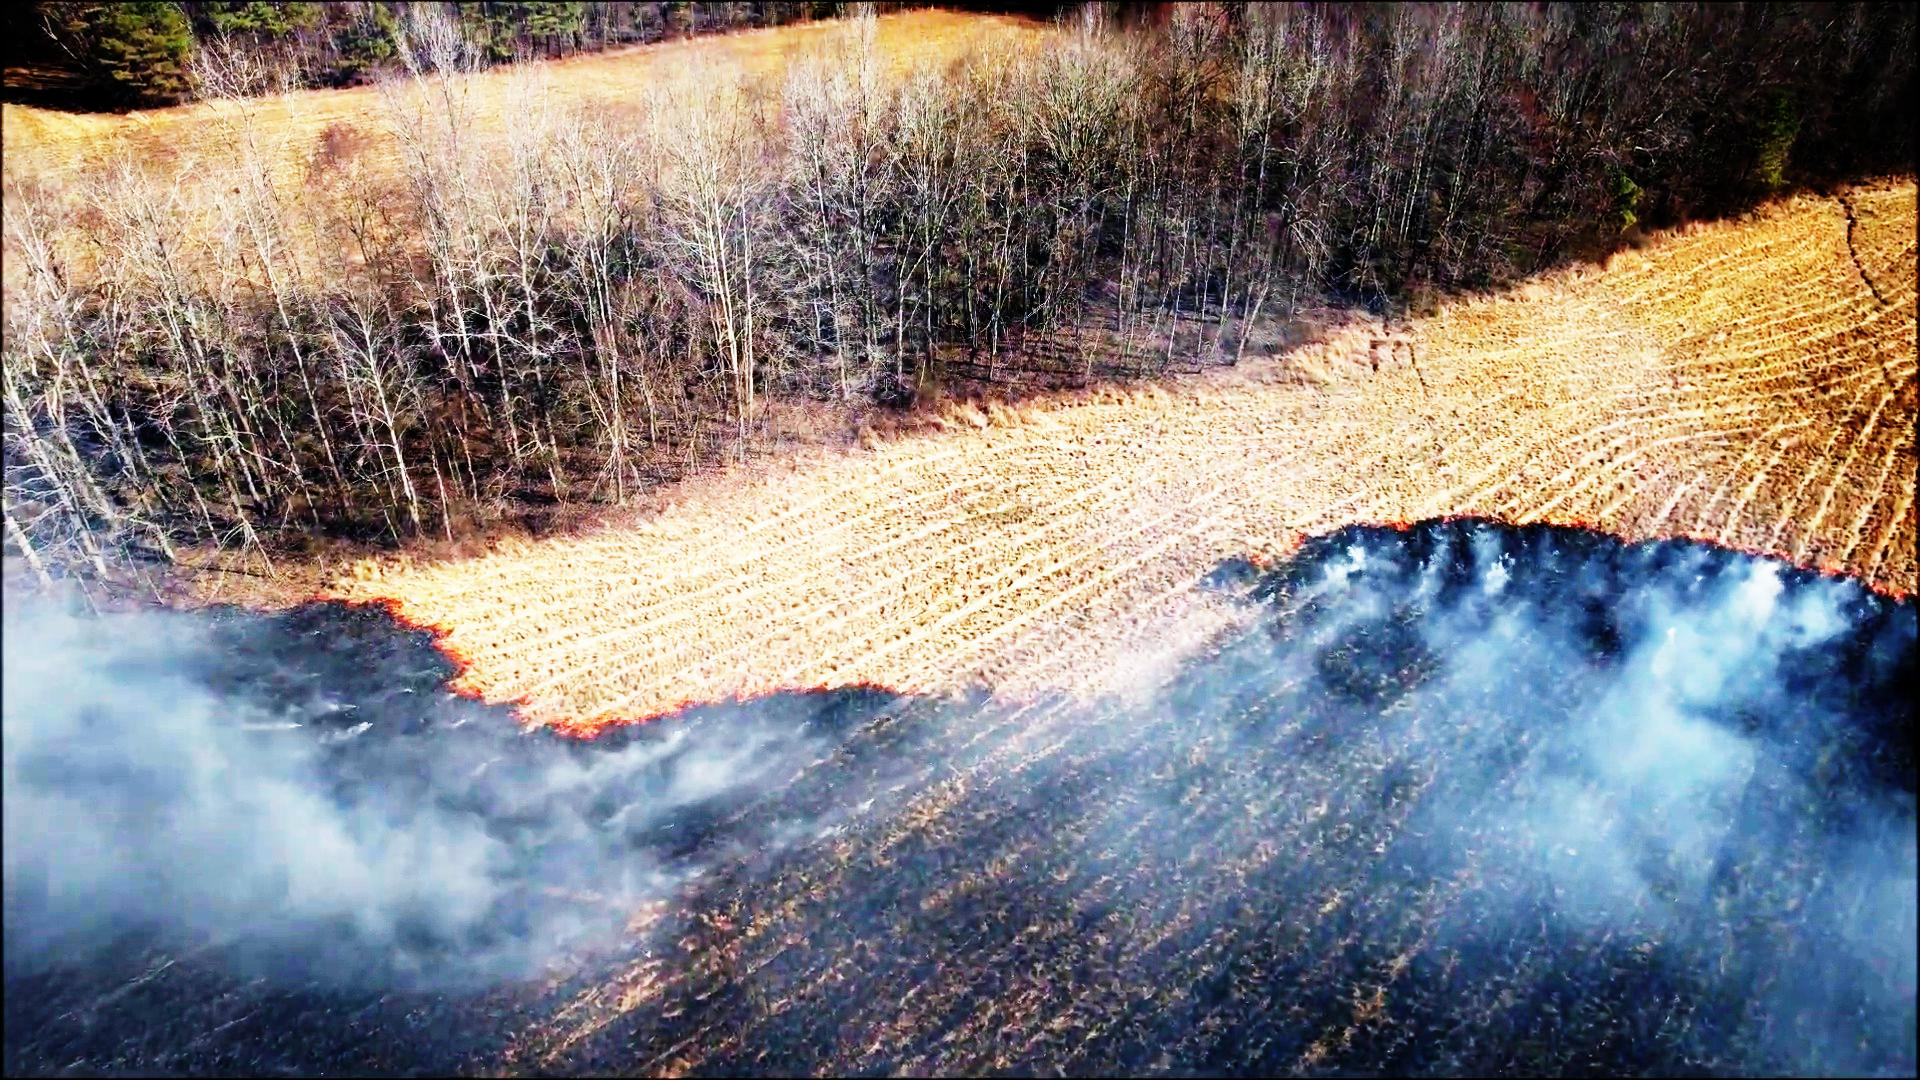smoke: (0, 585, 815, 985), (1470, 530, 1920, 1069)
